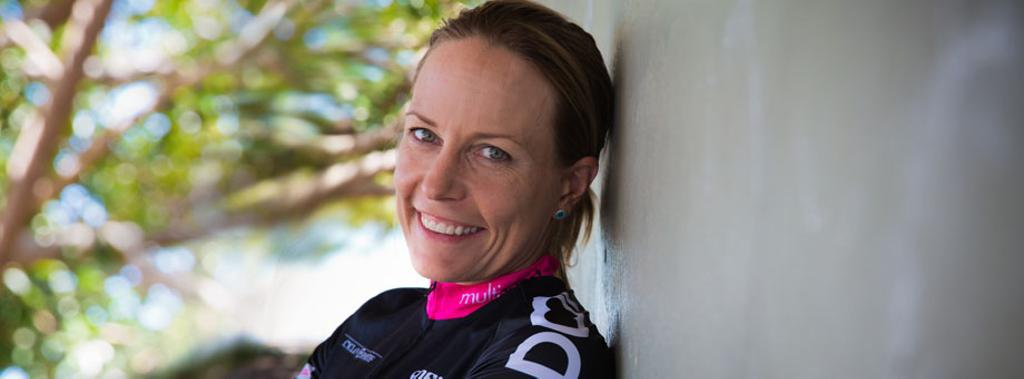face: (399, 39, 557, 283)
